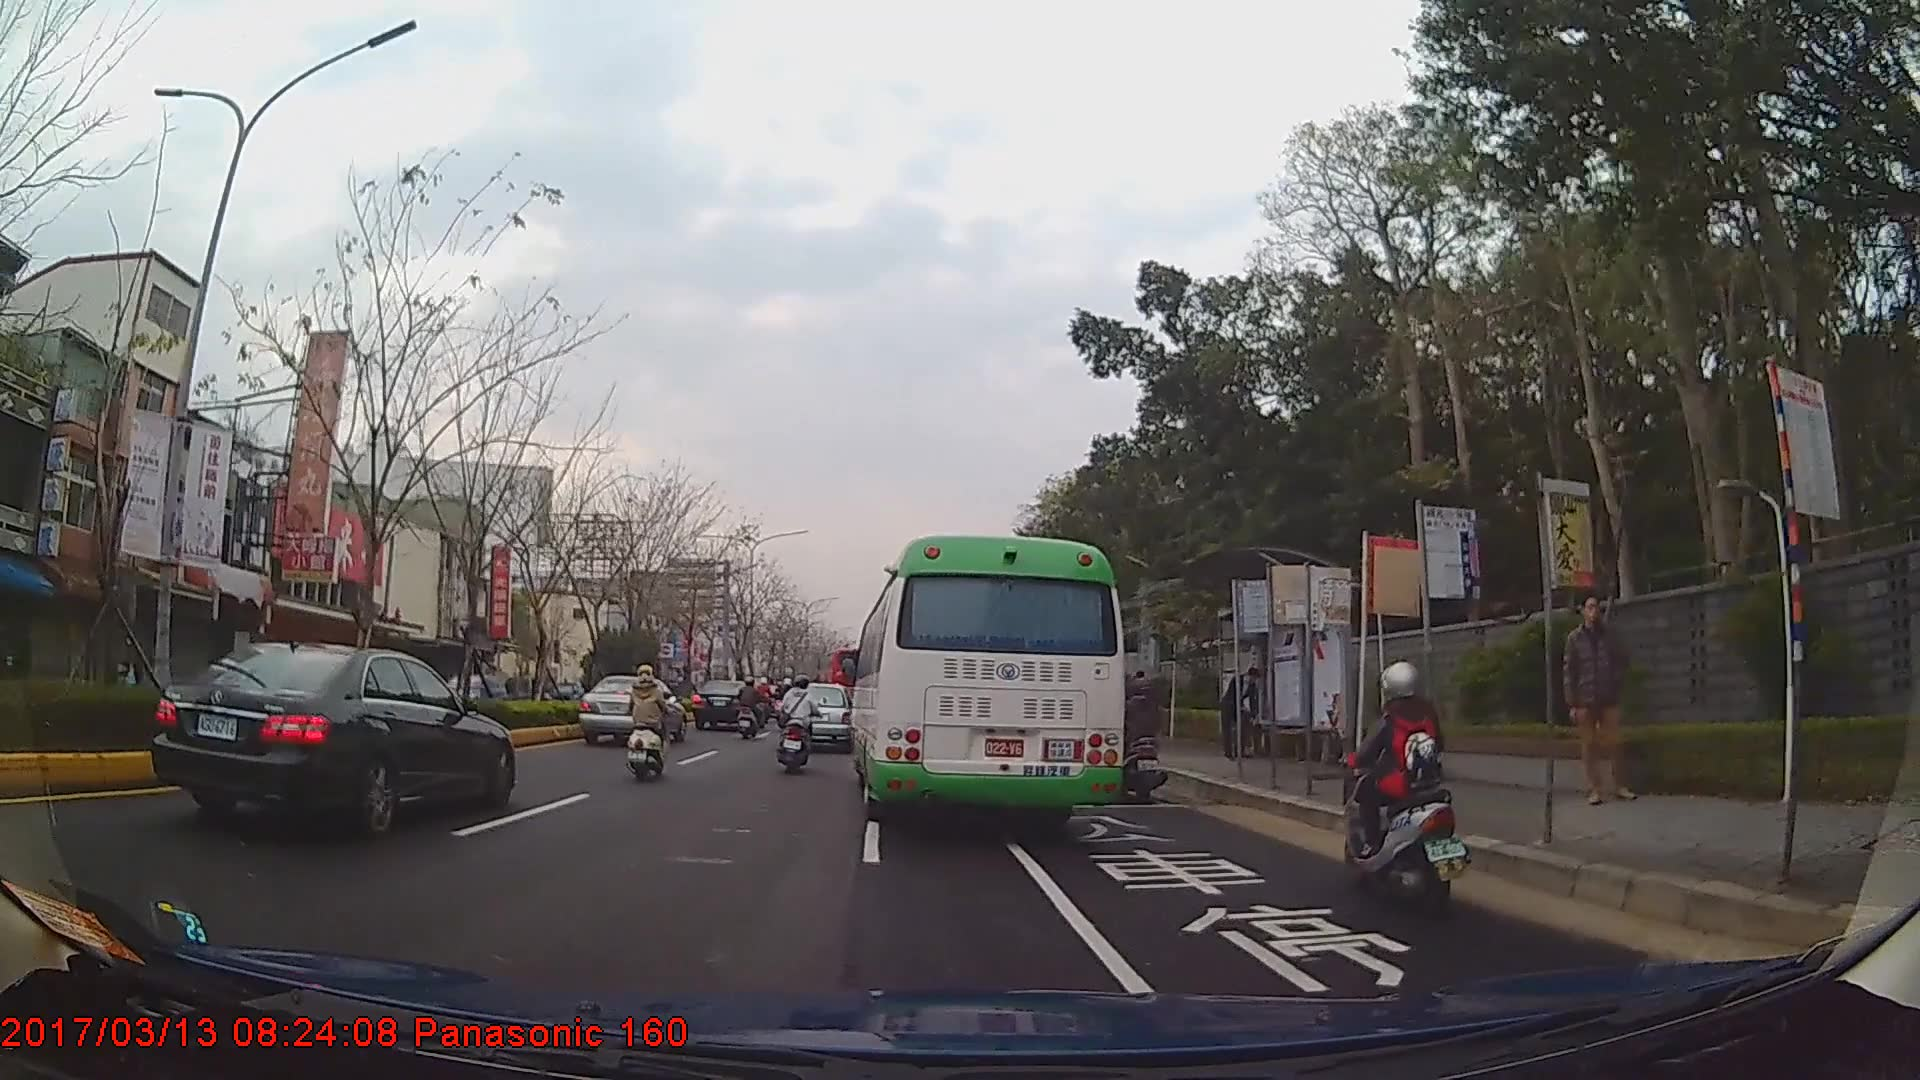pedestrian: (1559, 596, 1634, 809), (1214, 666, 1265, 761)
rider: (1338, 659, 1471, 912), (1117, 675, 1174, 803), (625, 663, 674, 778), (780, 680, 825, 776), (736, 675, 766, 742), (116, 638, 142, 685)
vehicle: (849, 535, 1124, 831), (146, 638, 516, 843), (579, 673, 687, 744), (784, 680, 856, 751), (423, 664, 504, 718), (691, 678, 758, 732)
